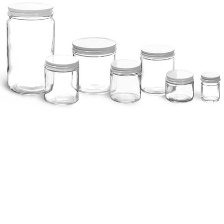bottle: (3, 0, 60, 97), (68, 30, 120, 95), (39, 50, 80, 108), (135, 39, 177, 95), (107, 55, 141, 105), (161, 64, 197, 106)
